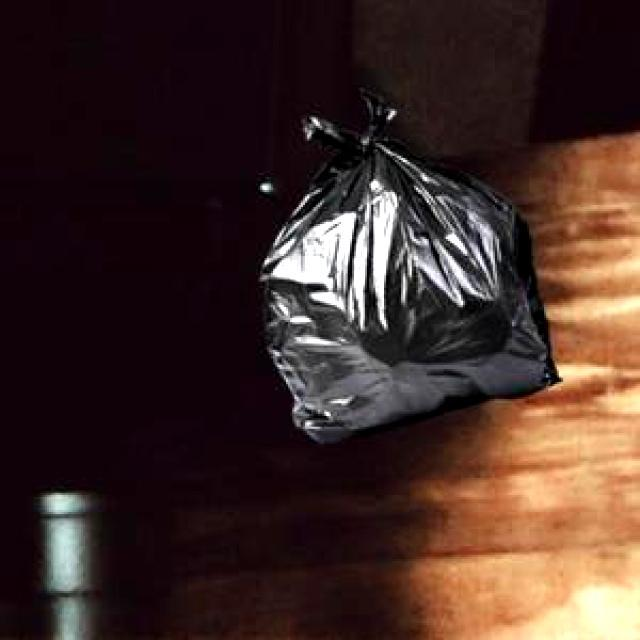Garbage_Bag: (257, 88, 558, 440)
